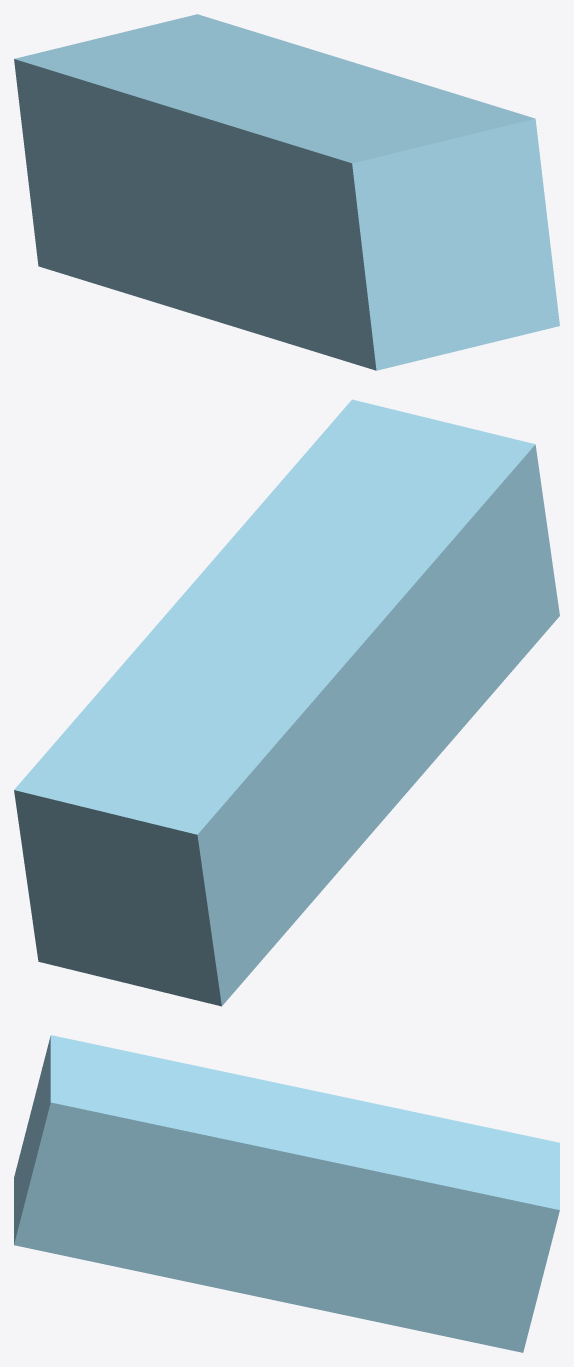
File: scatola-lenti.glb
3 views of the same model, one above another, from view 1: azimuth 30°, elevation 25°; view 2: azimuth 150°, elevation 25°; view 3: azimuth 270°, elevation 25° (orthographic). The views are drawn at different scales.
Visible parts, largest first — view 1: Cube; view 2: Cube; view 3: Cube.001, Cube.
Boxes of the visible parts, bbox=[...] form: Cube: bbox=[14, 14, 559, 370]; Cube: bbox=[14, 399, 559, 1006]; Cube.001: bbox=[14, 1102, 559, 1352]; Cube: bbox=[14, 1035, 559, 1244].
Size of the model in its own units: 0.1011 by 0.1751 by 0.3459.
